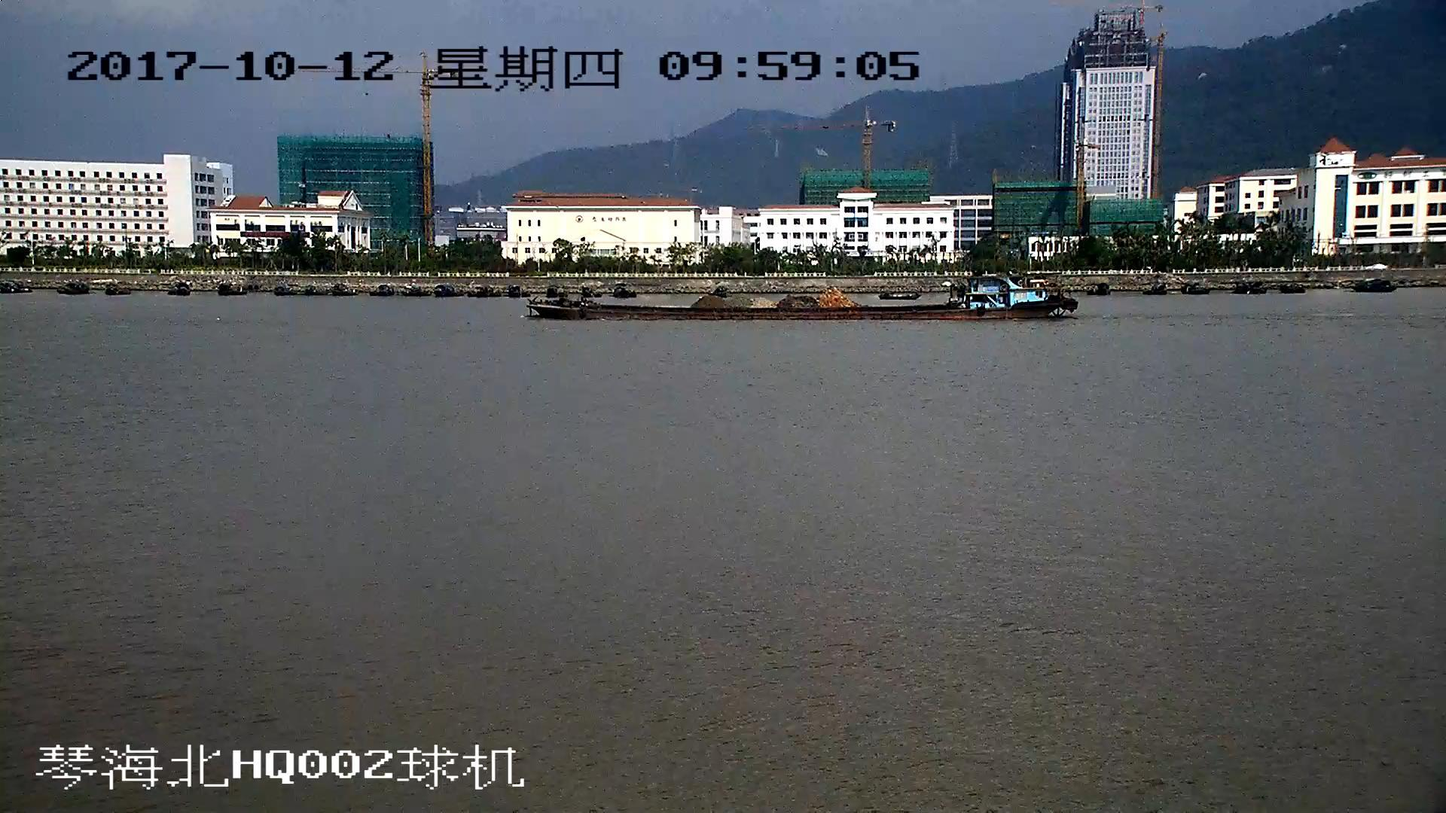ore carrier: (530, 273, 1075, 323)
